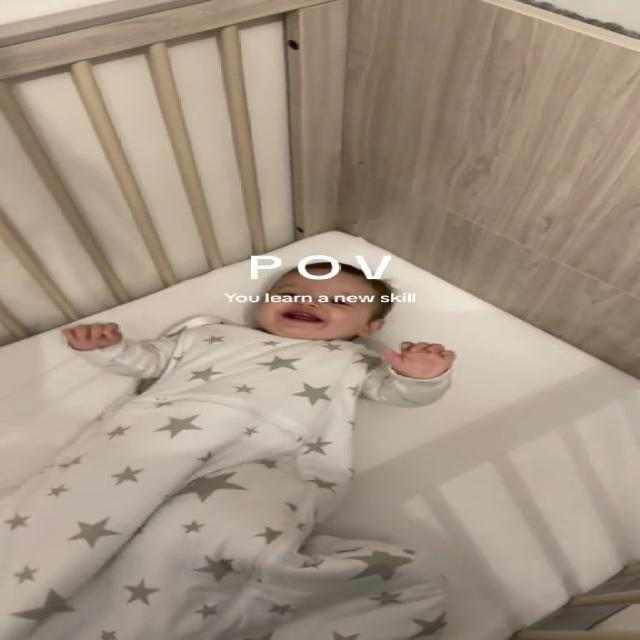baby: (2, 260, 486, 640)
